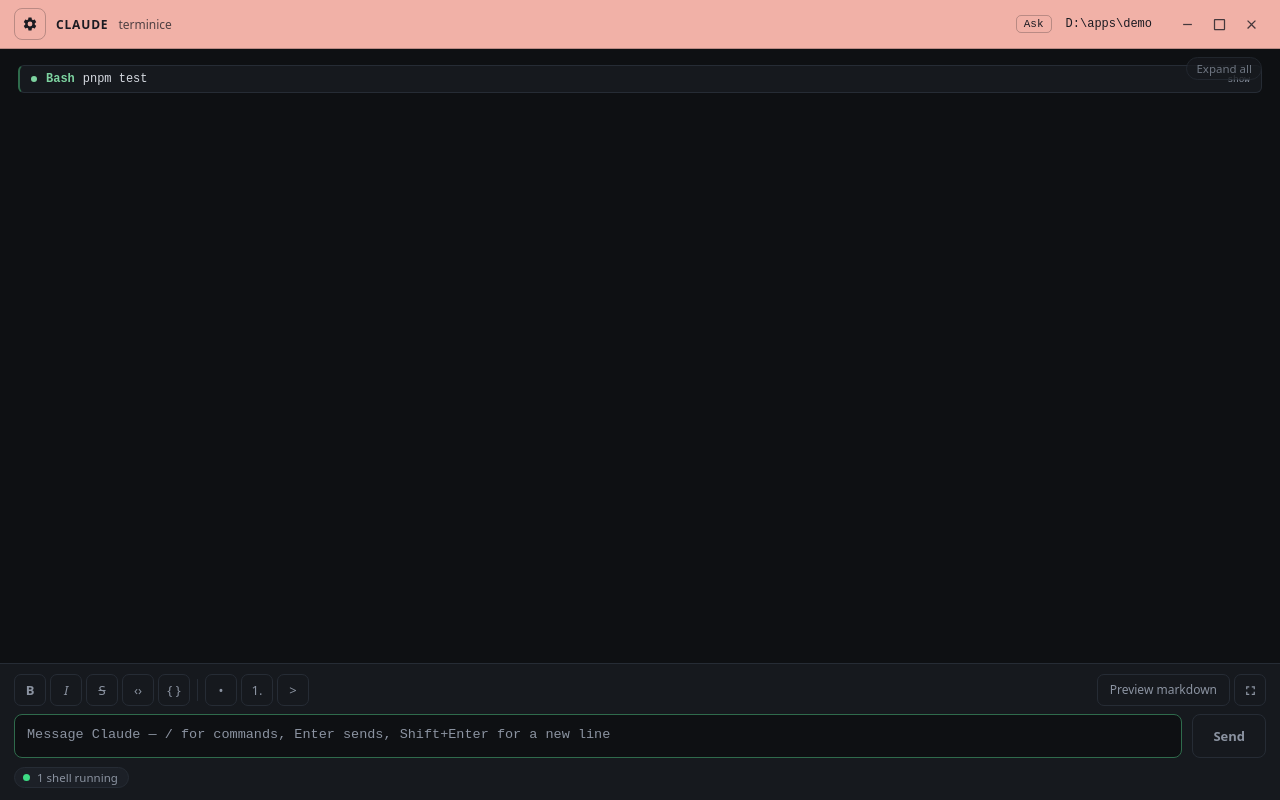
it: App › jumps from a running shell in the tracker to its card in the transcript
The width and height of the screenshot is (1280, 800).
Click the button "1 shell running": (71, 778) [14, 767, 129, 788]
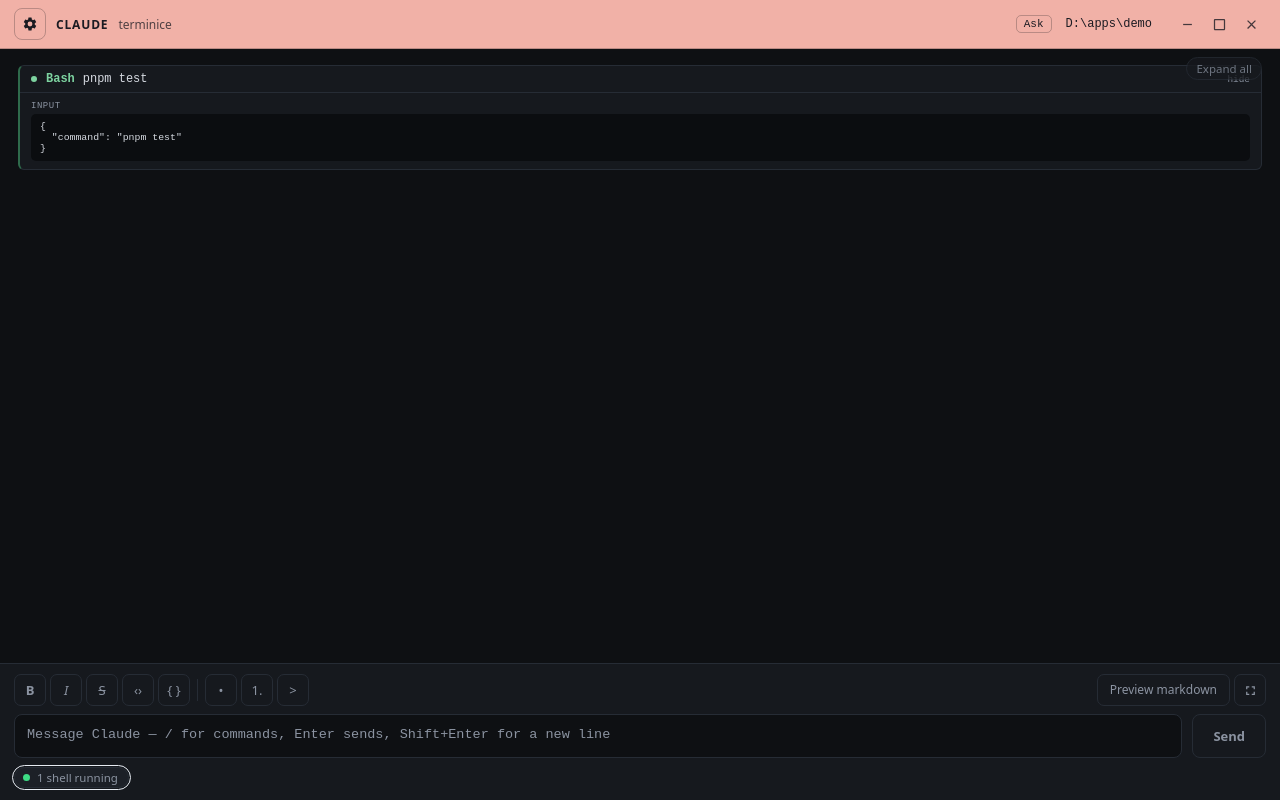
Now the button with class "tool-summary" is expanded, box [20, 66, 1261, 92]
